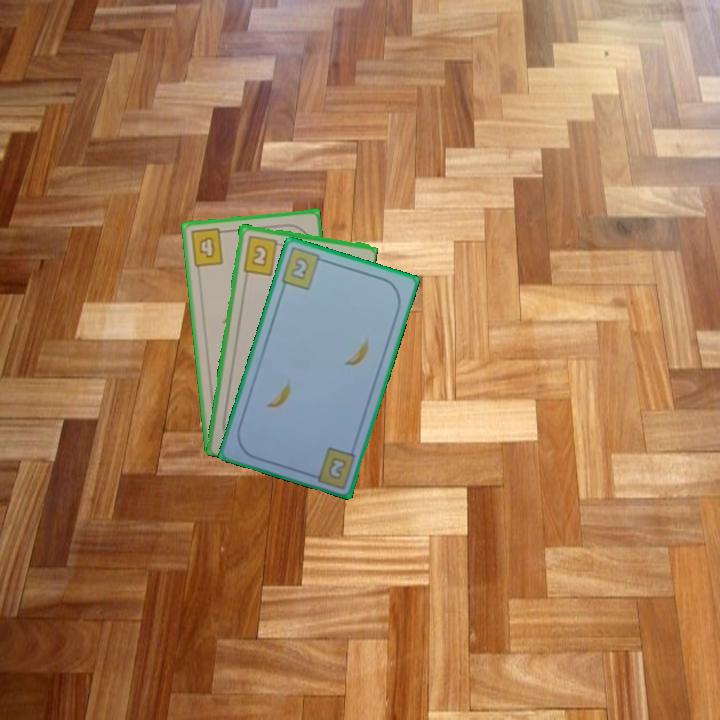2b: (277, 244, 330, 293), (239, 232, 286, 277), (324, 453, 349, 482)
4b: (186, 225, 230, 270)
